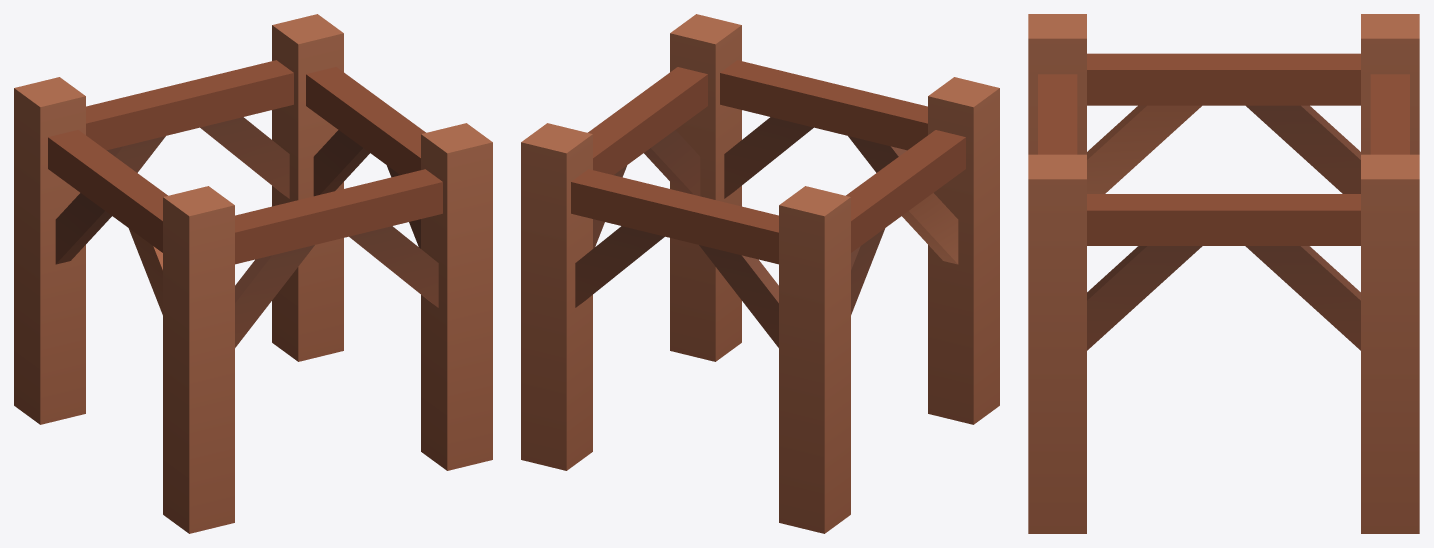
The model's file is building-structure.glb.
The picture shows the model from 3 angles, left to right: view 1: azimuth 30°, elevation 25°; view 2: azimuth 150°, elevation 25°; view 3: azimuth 270°, elevation 25°; orthographic projection. The views are drawn at different scales.
Parts seen in each view (by area): view 1: building-structure; view 2: building-structure; view 3: building-structure.
Boxes of the visible parts, x1=… form: building-structure: x1=14, y1=14, x2=492, y2=533; building-structure: x1=521, y1=14, x2=999, y2=533; building-structure: x1=1028, y1=14, x2=1419, y2=533.
Bounding box in the file's own units: 1 × 1 × 1.
